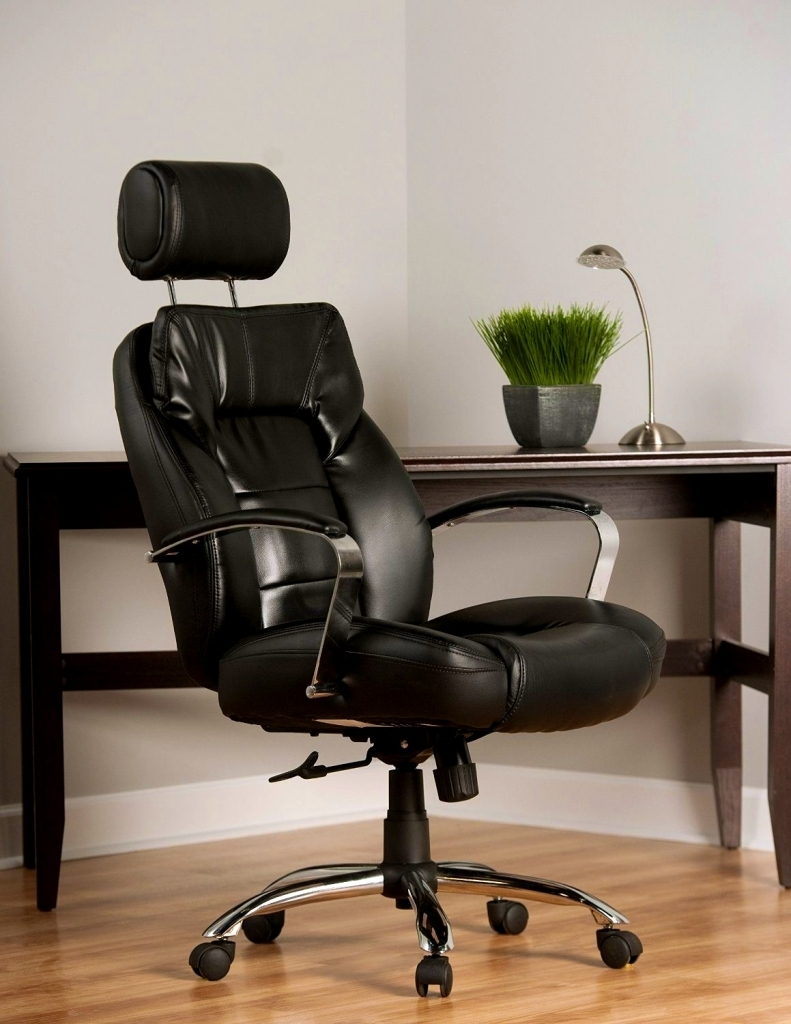chairs: (115, 153, 669, 1001)
